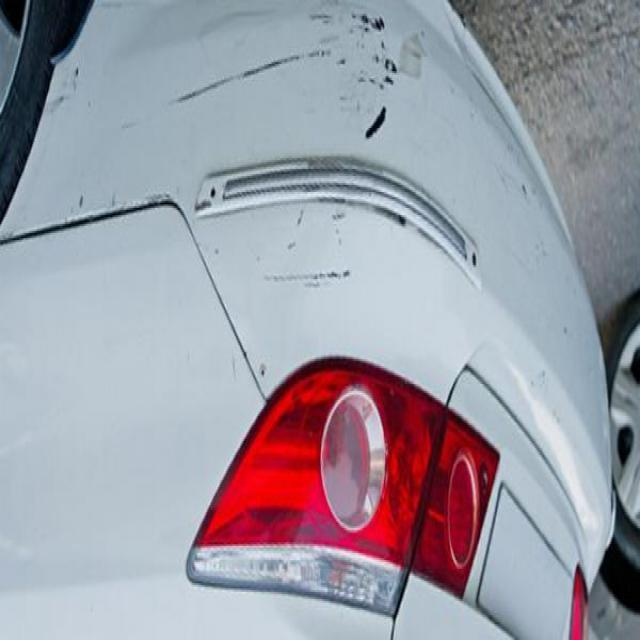scratch: (169, 32, 322, 116), (256, 258, 354, 292)
